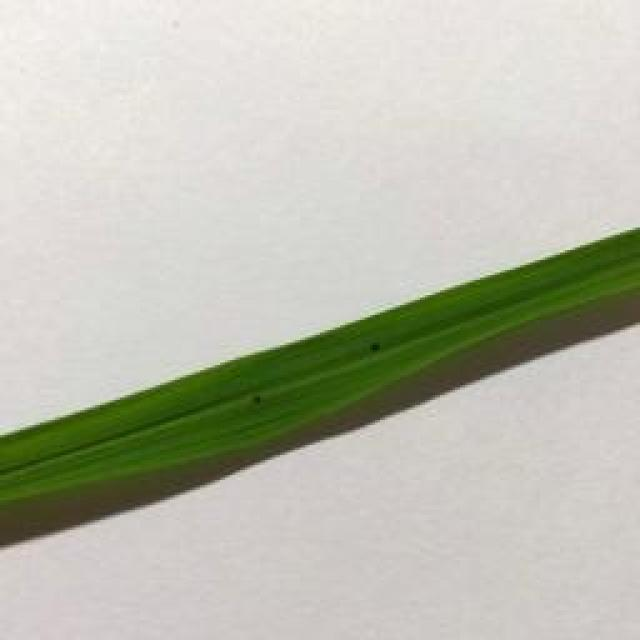Brown_Spot: (362, 339, 384, 364), (252, 388, 268, 412)
